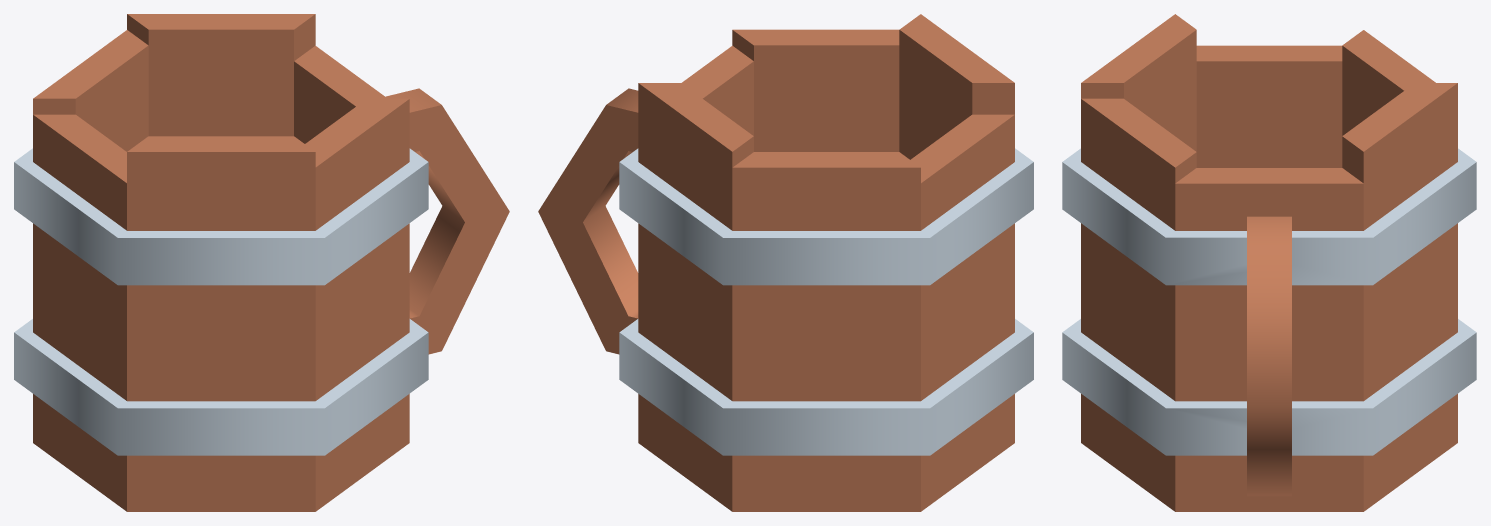
Rendered from mug.glb.
The picture shows the model from 3 angles, left to right: view 1: azimuth 30°, elevation 25°; view 2: azimuth 150°, elevation 25°; view 3: azimuth 270°, elevation 25°; orthographic projection.
Visible parts, largest first — view 1: mug; view 2: mug; view 3: mug.
Boxes of the visible parts, box(x1,y1,x2,y2) form: mug: box(14, 14, 509, 511); mug: box(538, 14, 1033, 511); mug: box(1062, 14, 1476, 511).
Size of the model in its own units: 0.3437 by 0.2734 by 0.2851.
